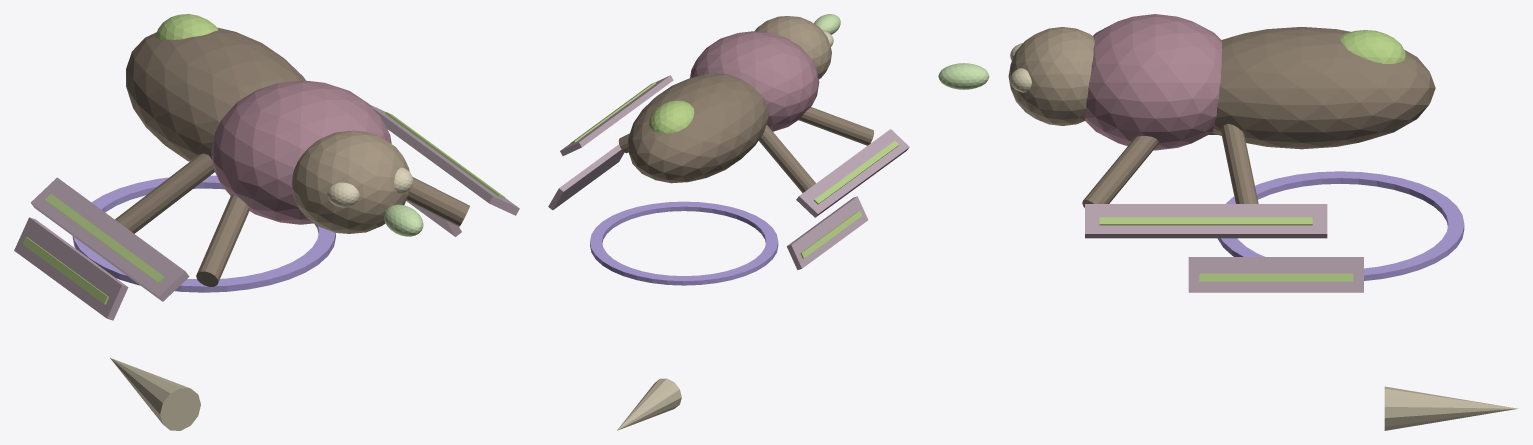
Rendered from zglengo_venom_wasp.glb.
The picture shows the model from 3 angles, left to right: view 1: azimuth 30°, elevation 25°; view 2: azimuth 150°, elevation 25°; view 3: azimuth 270°, elevation 25°; orthographic projection. The views are drawn at different scales.
Parts seen in each view (by area): view 1: thorax, abdomen, head, wing_0, hover_ring, wing_2, stinger, leg_mid_-1, leg_front_-1, wing_1, leg_front_1, wing_vein_0 (+5 smaller); view 2: abdomen, thorax, hover_ring, wing_0, wing_2, head, stinger, wing_3, leg_front_-1, leg_mid_-1, venom_sac, wing_1 (+3 smaller); view 3: abdomen, thorax, wing_1, head, hover_ring, wing_3, stinger, leg_front_1, wing_vein_1, leg_mid_1, venom_sac, wing_vein_3 (+1 smaller).
Part boxes in pixels (x1,y1,x2,y2): thorax: [211, 80, 391, 224]; abdomen: [126, 27, 305, 161]; head: [291, 130, 409, 233]; wing_0: [30, 177, 189, 301]; hover_ring: [72, 175, 335, 292]; wing_2: [14, 217, 128, 320]; stinger: [110, 358, 200, 430]; leg_mid_-1: [115, 153, 214, 233]; leg_front_-1: [196, 194, 250, 286]; wing_1: [370, 105, 519, 215]; leg_front_1: [406, 177, 469, 226]; wing_vein_0: [45, 194, 164, 282]; abdomen: [628, 73, 768, 183]; thorax: [690, 31, 819, 131]; hover_ring: [590, 201, 778, 285]; wing_0: [796, 129, 909, 217]; wing_2: [787, 196, 868, 269]; head: [754, 16, 831, 79]; stinger: [617, 378, 681, 430]; wing_3: [548, 144, 624, 210]; leg_front_-1: [798, 107, 873, 145]; leg_mid_-1: [758, 124, 815, 192]; venom_sac: [649, 100, 694, 133]; wing_1: [560, 75, 673, 155]; abdomen: [1212, 27, 1435, 149]; thorax: [1084, 14, 1222, 150]; wing_1: [1085, 204, 1327, 238]; head: [1008, 27, 1094, 125]; hover_ring: [1217, 171, 1464, 280]; wing_3: [1188, 257, 1363, 292]; stinger: [1384, 386, 1517, 430]; leg_front_1: [1082, 136, 1158, 207]; wing_vein_1: [1099, 217, 1312, 225]; leg_mid_1: [1221, 123, 1258, 203]; venom_sac: [1340, 30, 1406, 63]; wing_vein_3: [1199, 273, 1353, 281].
Size of the model in its own units: 1.23 by 1.4 by 1.82.
